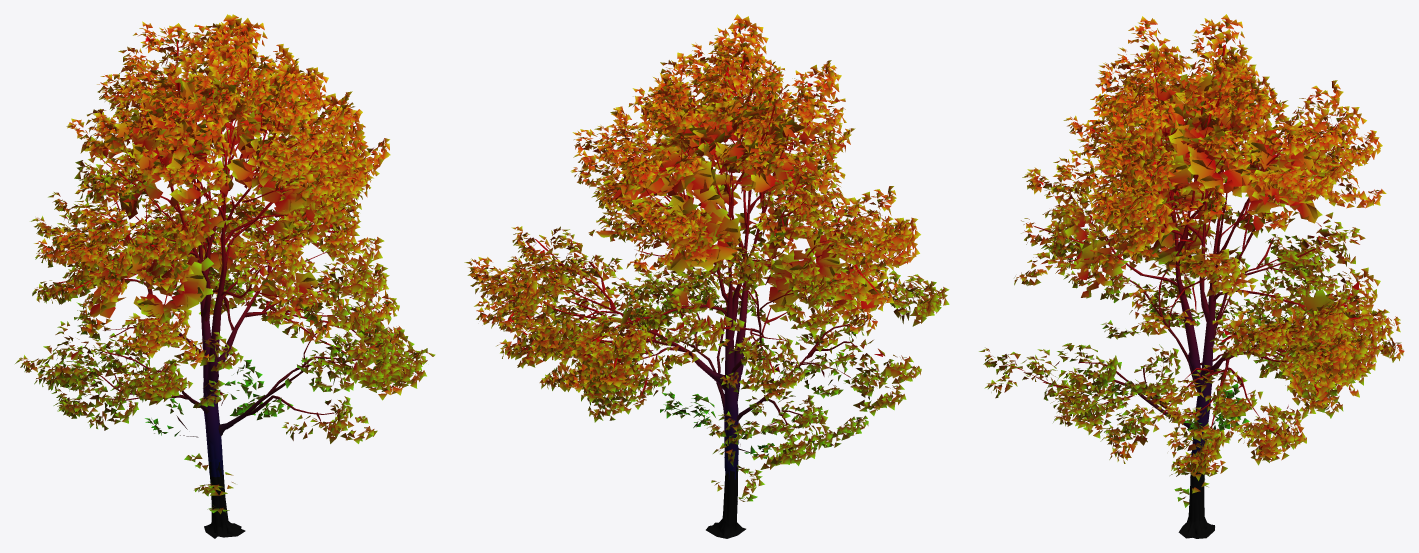
File: SM_EuropeanHornbeam_Field_03.fbx
The picture shows the model from 3 angles, left to right: view 1: azimuth 30°, elevation 25°; view 2: azimuth 150°, elevation 25°; view 3: azimuth 270°, elevation 25°; orthographic projection. The views are drawn at different scales.
Parts seen in each view (by area): view 1: SM_EuropeanHornbeam_Field_03; view 2: SM_EuropeanHornbeam_Field_03; view 3: SM_EuropeanHornbeam_Field_03.
Boxes of the visible parts, x1,y1,x2,y2 form: SM_EuropeanHornbeam_Field_03: [15, 14, 435, 538]; SM_EuropeanHornbeam_Field_03: [464, 14, 949, 538]; SM_EuropeanHornbeam_Field_03: [979, 14, 1404, 538].
Size of the model in its own units: 1297 by 1215 by 1523.
